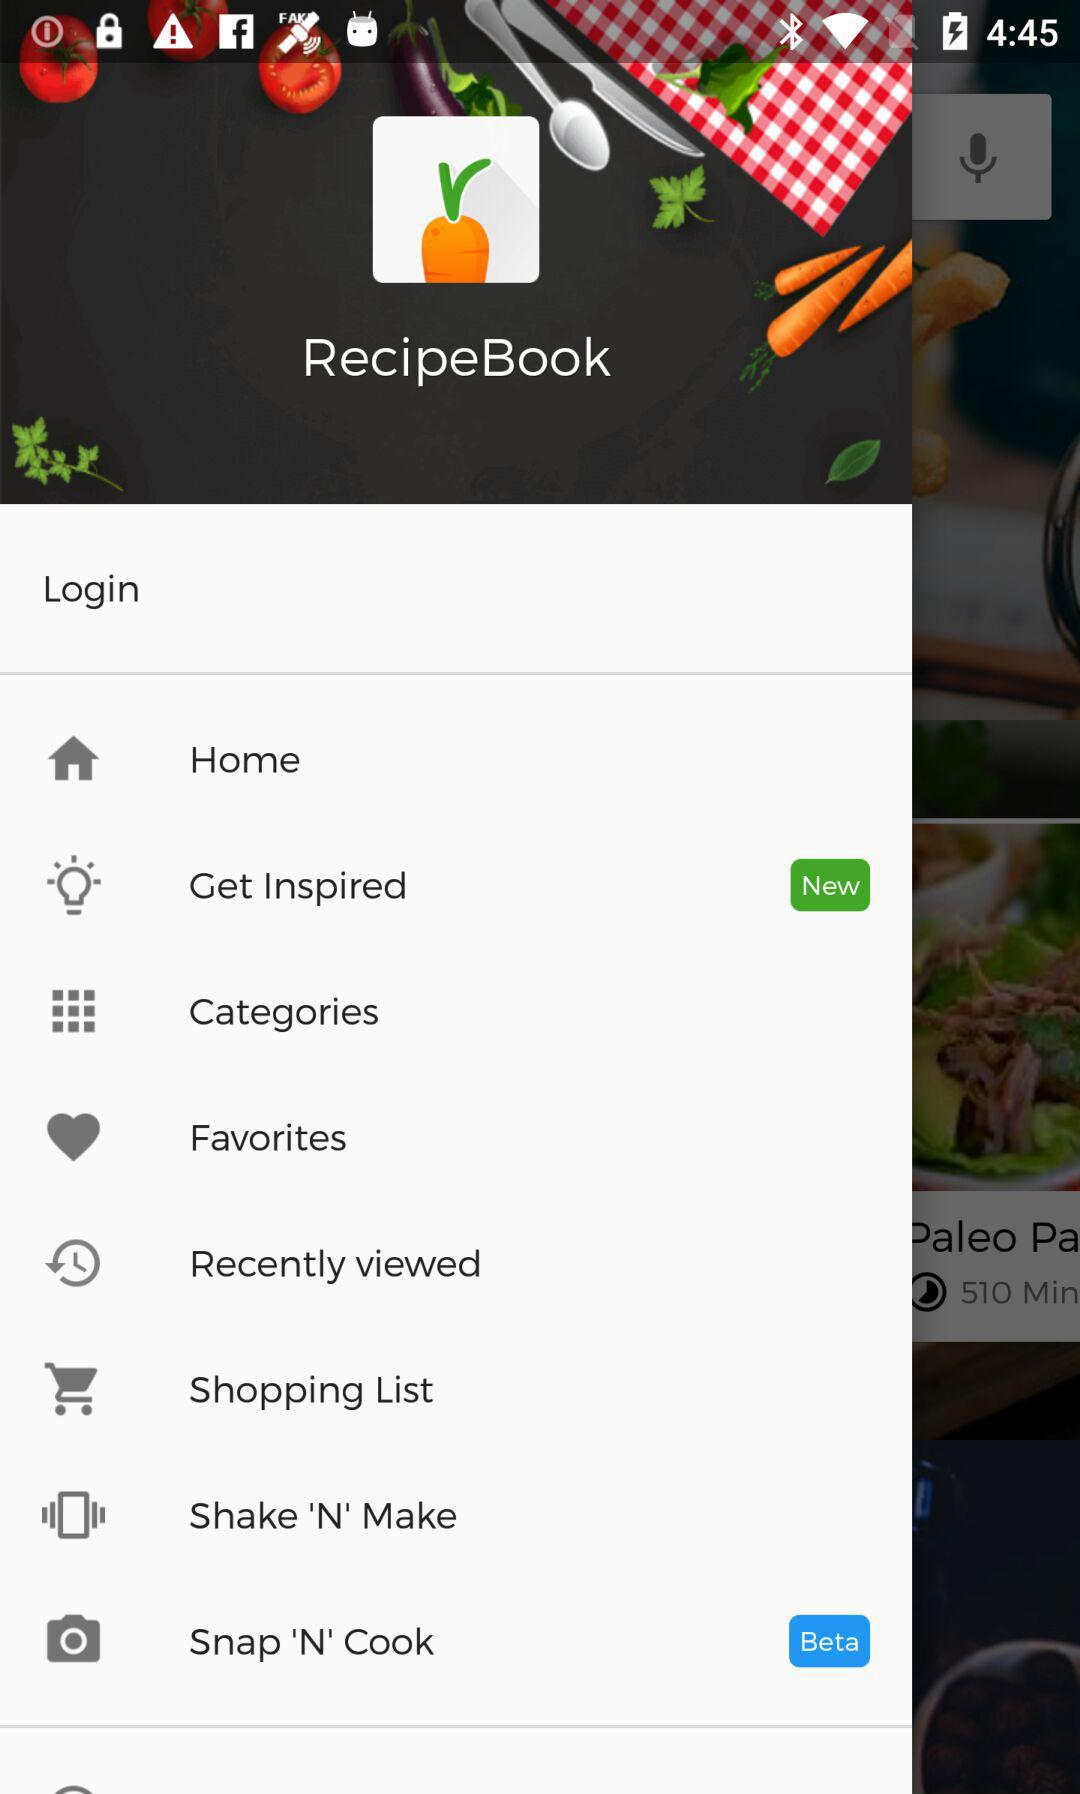Drawer: (1, 64, 912, 1794)
Icon: (44, 1361, 99, 1417), (44, 1238, 102, 1288), (47, 1112, 102, 1164), (46, 1613, 102, 1663), (47, 734, 102, 782), (53, 989, 97, 1034)
Image: (1, 65, 912, 506), (373, 117, 541, 284), (46, 853, 104, 918), (42, 1490, 108, 1540)
Text: (305, 336, 612, 390), (192, 1248, 480, 1287), (190, 1374, 436, 1412), (190, 1626, 436, 1665), (190, 1501, 457, 1533), (190, 870, 407, 909), (190, 996, 380, 1034), (192, 1123, 348, 1155), (45, 573, 141, 611), (192, 746, 302, 775)
TextButton: (789, 1615, 871, 1668), (790, 859, 871, 912)
UpperTaskBar: (1, 1, 1080, 64)
